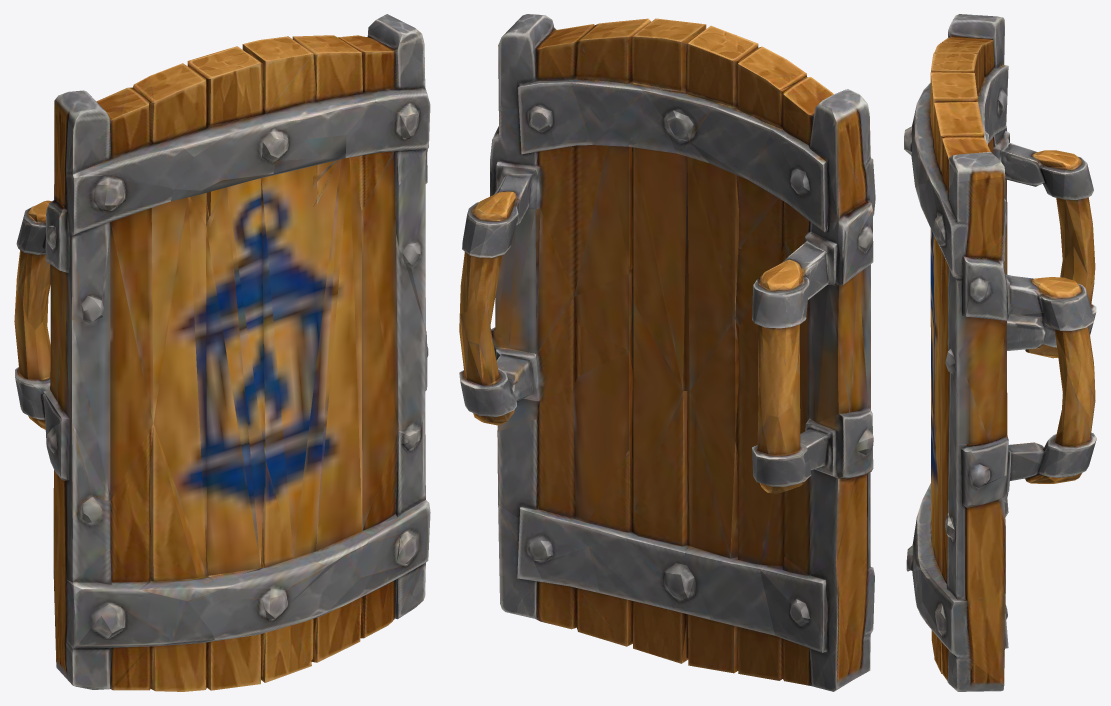
File: warden-shield.glb
3 renders of one model, left to right at view 1: azimuth 30°, elevation 25°; view 2: azimuth 150°, elevation 25°; view 3: azimuth 270°, elevation 25°, orthographic. The views are drawn at different scales.
Visible parts, largest first — view 1: output_unwrapped; view 2: output_unwrapped; view 3: output_unwrapped.
Boxes of the visible parts, box(x1,y1,x2,y2) form: output_unwrapped: box(14, 14, 430, 691); output_unwrapped: box(459, 14, 875, 691); output_unwrapped: box(904, 14, 1096, 691).
Size of the model in its own units: 1.21 by 1.9 by 0.5832.
Materials: 1 (1 with a texture image).
